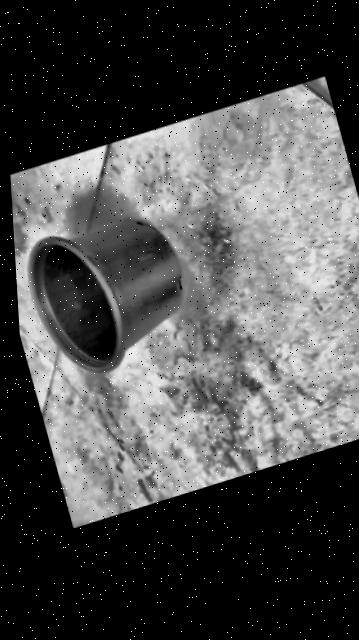pot: (15, 200, 200, 389)
